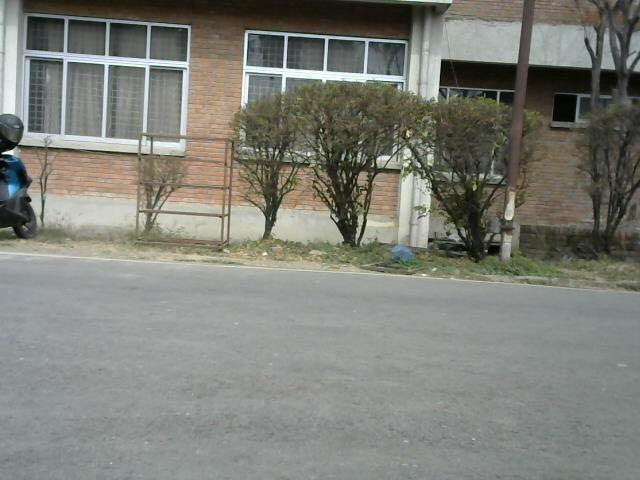Electrical Pole: (502, 0, 525, 286)
Motorcycle: (0, 114, 46, 259)
Road: (0, 262, 640, 480)
Tree: (217, 87, 419, 243)
